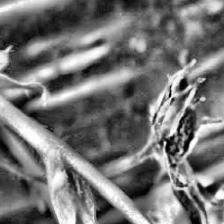Gray Mold: (110, 59, 224, 224)
